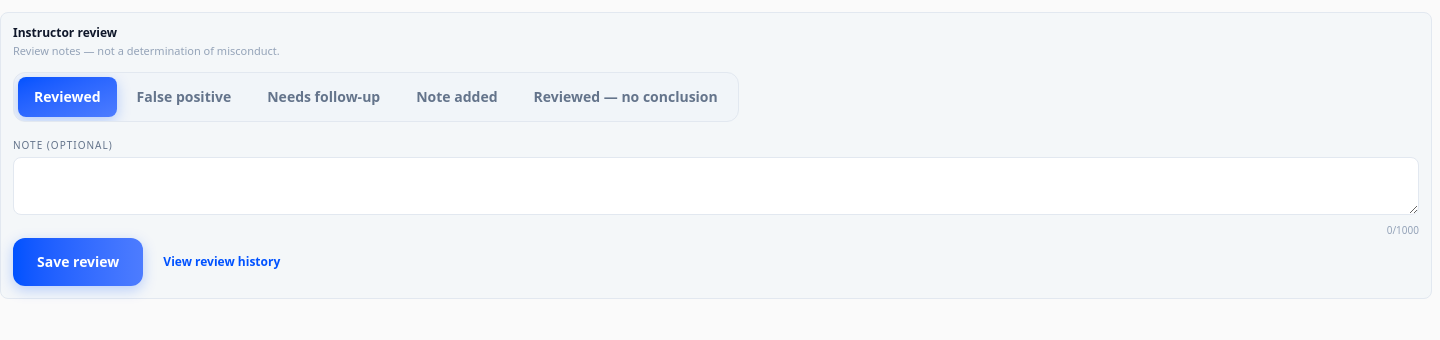
Scenario: AlertReviewForm submit (happy path + idempotency) › reports an idempotent replay honestly
This screenshot has width=1440, height=340.
Click the button "Save review". click: (78,262)
box: [13,238,143,286]
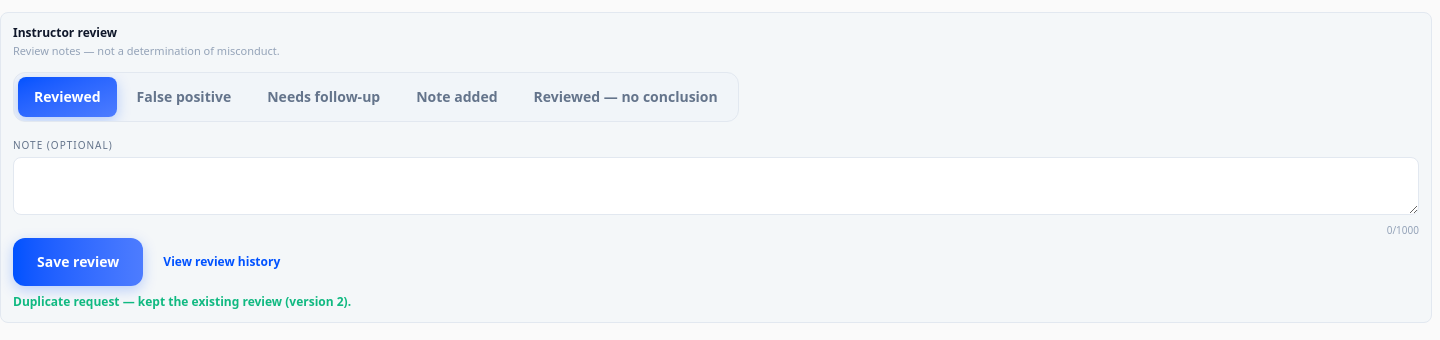
Check: the text "Duplicate request — kept the existing review (version 2)." is shown, box [13,292,351,310]
